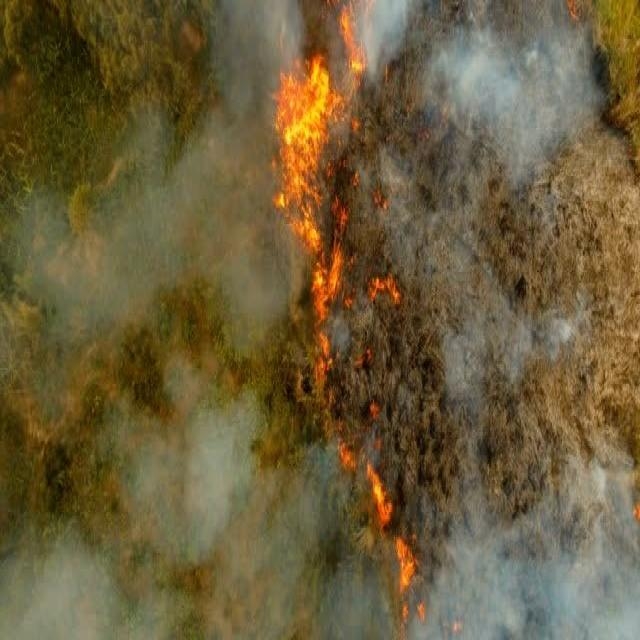Fire: (272, 25, 462, 640)
